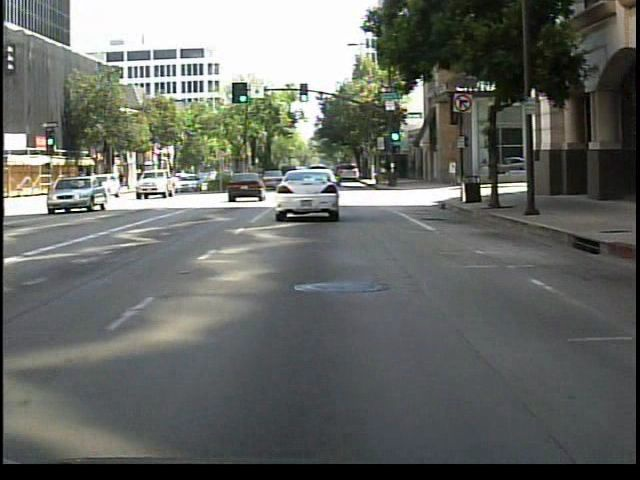person: (444, 154, 461, 193)
